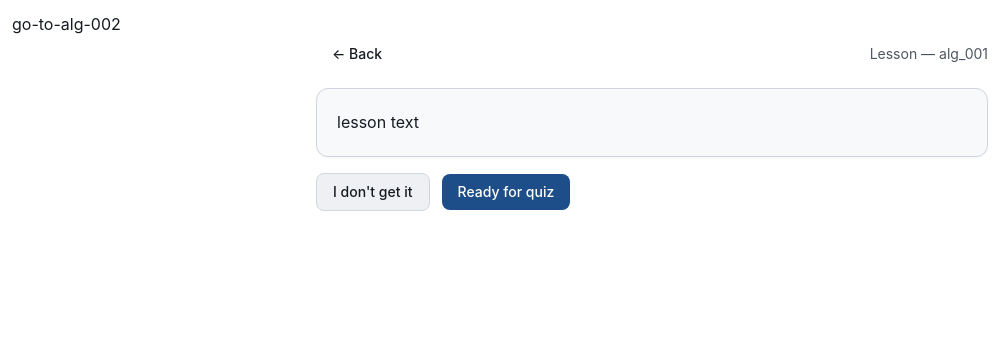
LessonPage flow hardening (WP3) › labels the explain card with the strategy that produced the displayed content
The image size is (1005, 341).
Click the button "I don't get it" at (373, 192), box 316,173 -> 430,211
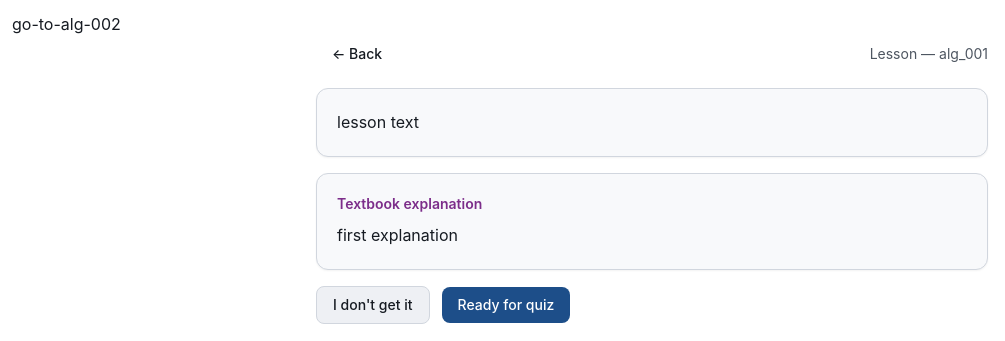
Expected: the text "Analogy / visual" is not shown
Result: the heading "Textbook explanation" is shown at 337,195 -> 482,212
Note: Rung 2: analogy produces the next content → card advances with it.
Click the button "I don't get it" at (373, 305), box 316,286 -> 430,324
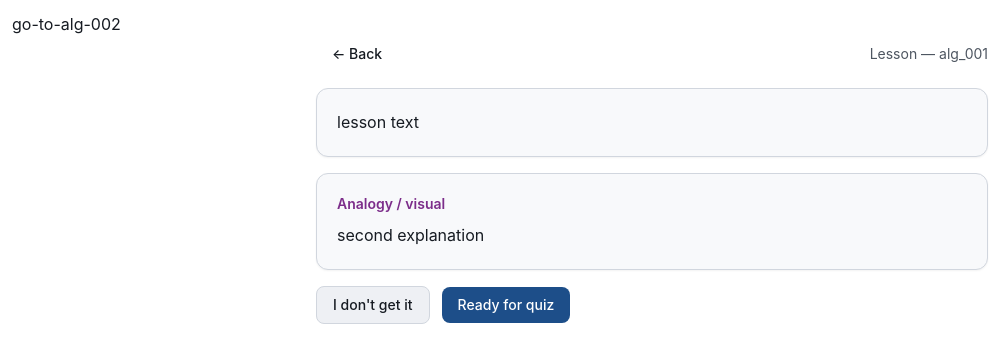
Result: the heading "Analogy / visual" is shown at 337,195 -> 445,212
Result: the heading "Textbook explanation" is gone
